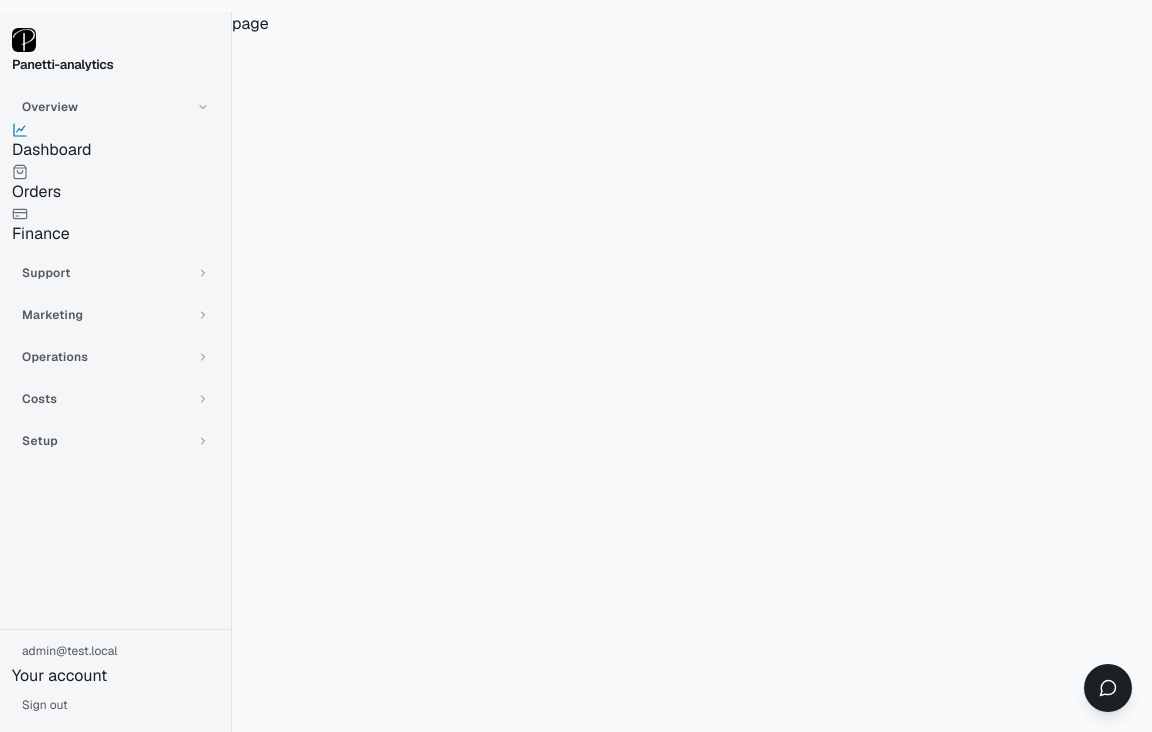
AppShell sign-out › does NOT navigate when the network is down
The image size is (1152, 732).
Click the button "Sign out" at (116, 705), box [12, 690, 219, 720]
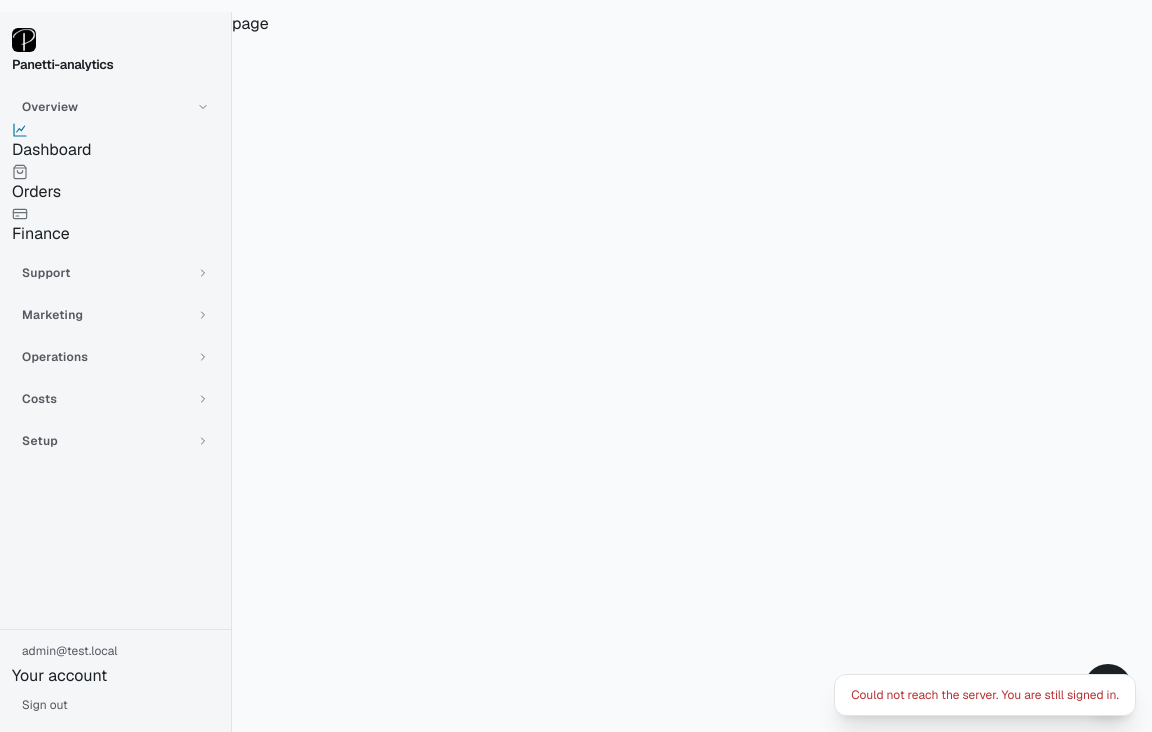
Now the button "Could not reach the server. You are still signed in." is shown, box [834, 674, 1136, 716]
